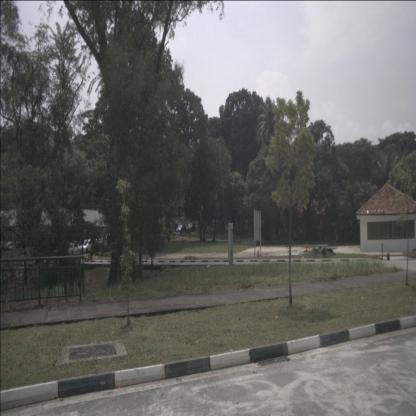vehicle-car: (80, 238, 96, 253), (66, 243, 82, 256), (14, 241, 25, 251), (176, 224, 187, 233), (7, 242, 17, 251), (186, 223, 196, 232)
